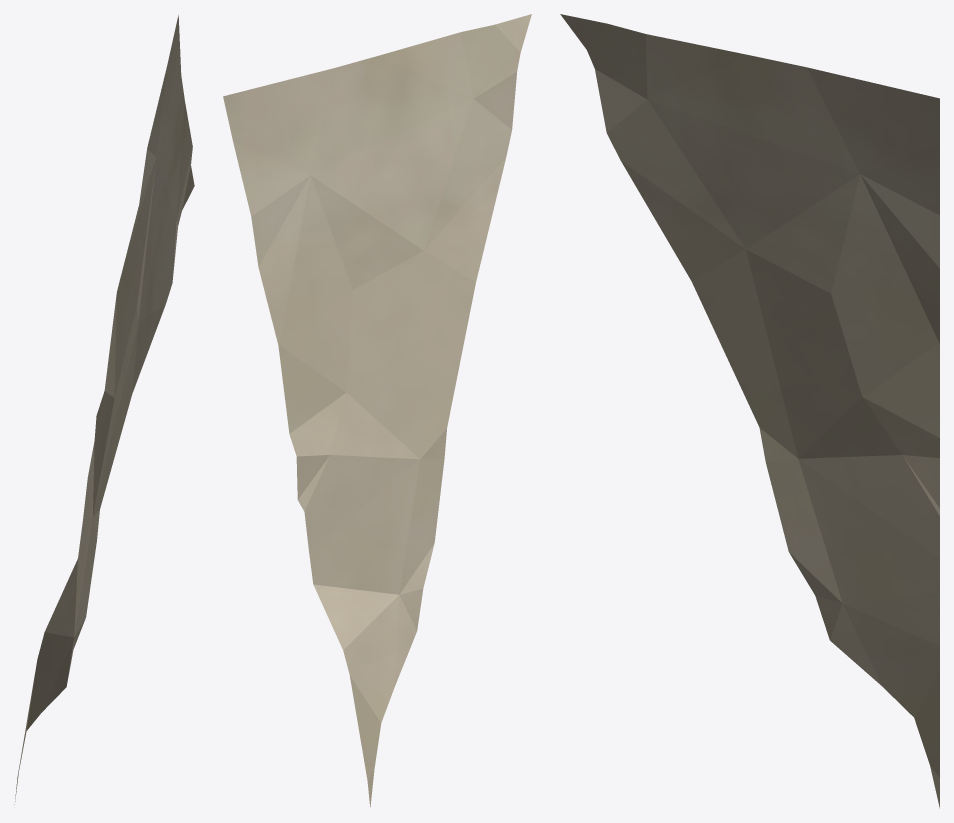
The picture shows the model from 3 angles, left to right: view 1: azimuth 30°, elevation 25°; view 2: azimuth 150°, elevation 25°; view 3: azimuth 270°, elevation 25°; orthographic projection. The views are drawn at different scales.
Size of the model in its own units: 0.1869 by 0.8201 by 0.3552.
Materials: 1 (1 with a texture image).
